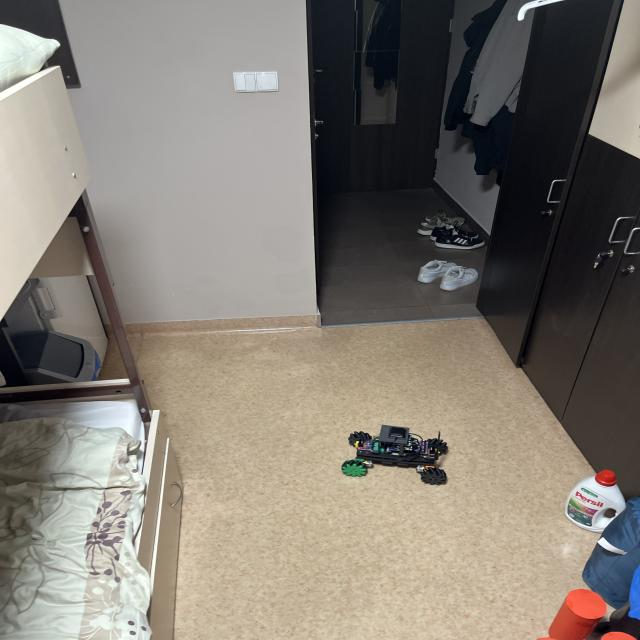robot: (342, 425, 448, 484)
